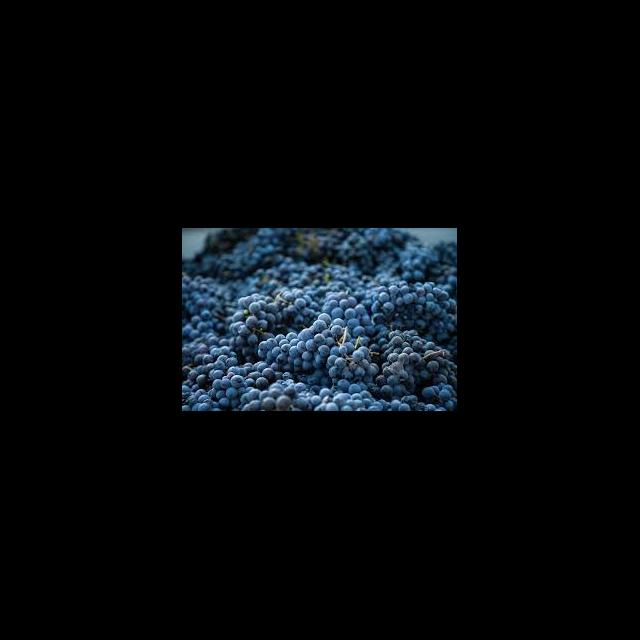grape: (182, 228, 456, 410)
